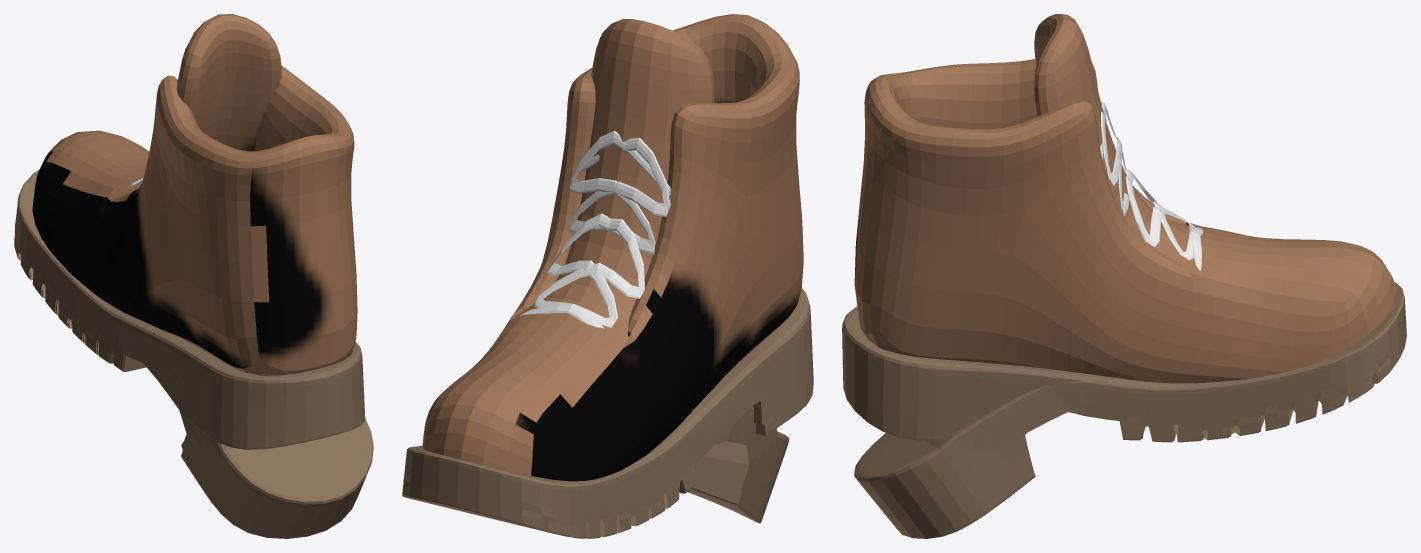
The model's file is boot 1.fbx.
3 views of the same model, side by side, from view 1: azimuth 30°, elevation 25°; view 2: azimuth 150°, elevation 25°; view 3: azimuth 270°, elevation 25° (orthographic). The views are drawn at different scales.
Visible parts, largest first — view 1: boot, sole, brokenSole; view 2: boot, sole, laces, brokenSole; view 3: boot, brokenSole, sole, laces.
Part boxes in pixels (bbox=[...]): boot: bbox=[32, 14, 357, 375]; sole: bbox=[14, 169, 365, 449]; brokenSole: bbox=[19, 256, 373, 538]; boot: bbox=[422, 14, 803, 481]; sole: bbox=[402, 288, 813, 538]; laces: bbox=[520, 130, 670, 328]; brokenSole: bbox=[410, 406, 788, 537]; boot: bbox=[854, 14, 1398, 383]; brokenSole: bbox=[854, 308, 1393, 538]; sole: bbox=[842, 282, 1406, 441]; laces: bbox=[1100, 100, 1203, 270].
Size of the model in its own units: 329 by 904 by 926.
